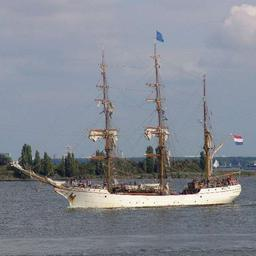Ship: (19, 42, 246, 210)
